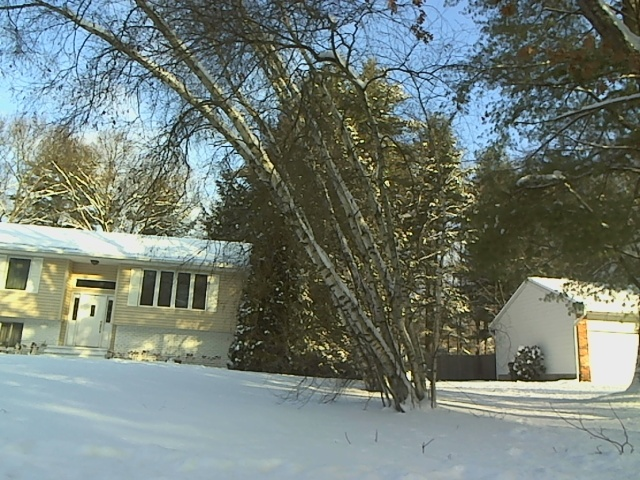Unploughed: (67, 273, 113, 424)
